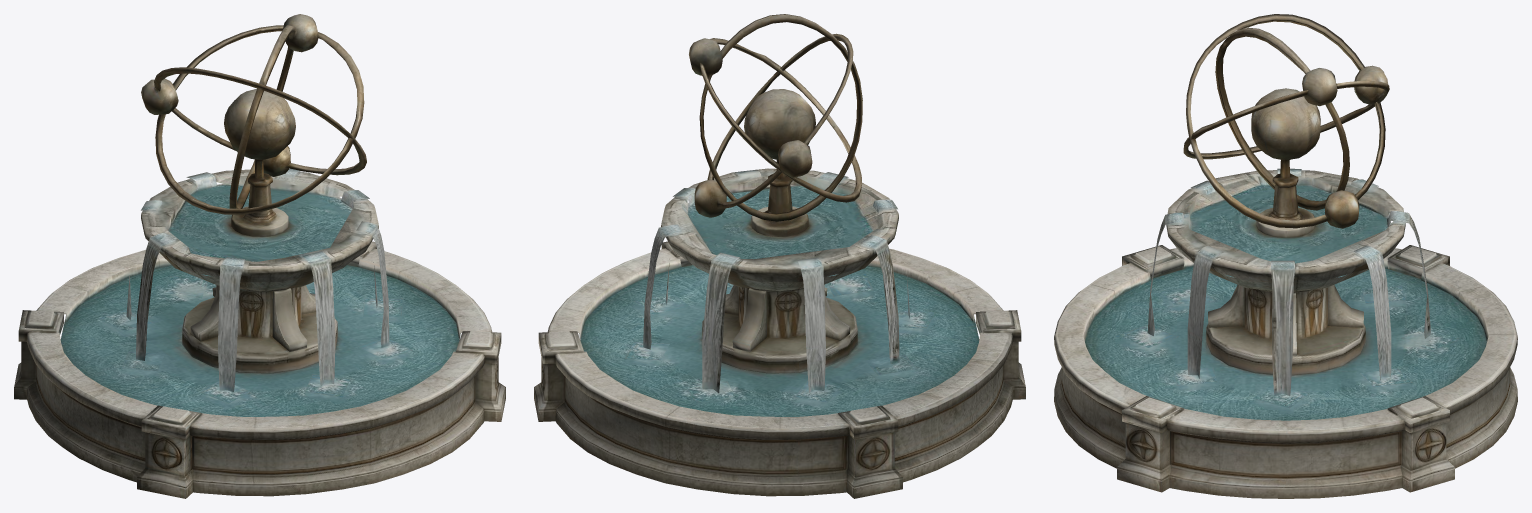
Rendered from fountain.glb.
3 renders of one model, left to right at view 1: azimuth 30°, elevation 25°; view 2: azimuth 150°, elevation 25°; view 3: azimuth 270°, elevation 25°, orthographic.
Parts seen in each view (by area): view 1: tripo_980813de_218f_4a23_a7e9_7e781594f7ed; view 2: tripo_980813de_218f_4a23_a7e9_7e781594f7ed; view 3: tripo_980813de_218f_4a23_a7e9_7e781594f7ed.
Part boxes in pixels (x1,y1,x2,y2): tripo_980813de_218f_4a23_a7e9_7e781594f7ed: (14, 14, 505, 498); tripo_980813de_218f_4a23_a7e9_7e781594f7ed: (534, 14, 1025, 498); tripo_980813de_218f_4a23_a7e9_7e781594f7ed: (1054, 14, 1517, 498).
Size of the model in its own units: 0.9937 by 0.895 by 0.9995.
1 material, 1 textured.
